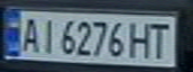2: (72, 17, 93, 56)
6: (106, 19, 130, 58), (57, 17, 78, 55)
7: (90, 18, 109, 57)
A: (18, 14, 42, 53)
H: (127, 19, 154, 60)
I: (36, 16, 57, 54)
T: (145, 19, 175, 58)
